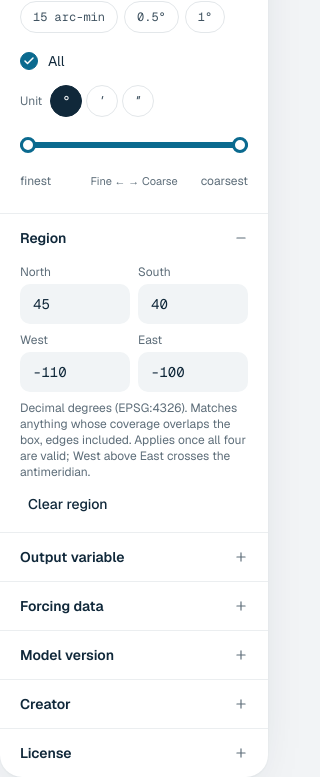
CatalogueSidebar region › has a Clear region button that empties the fields and the filter
The image size is (320, 777).
(page scrolled)
Click the button "Clear region". click: point(68, 504)
box: [20,488,116,520]
(page scrolled)
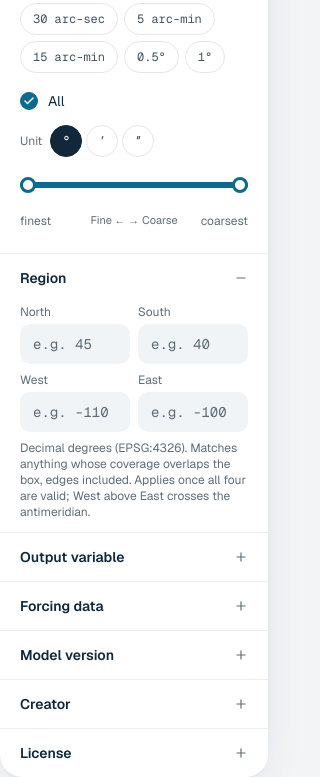
Check: the field labelled "North" is empty, box [20,324,130,364]
Check: the field labelled "South" is empty, box [138,324,248,364]
Check: the field labelled "West" is empty, box [20,392,130,432]
